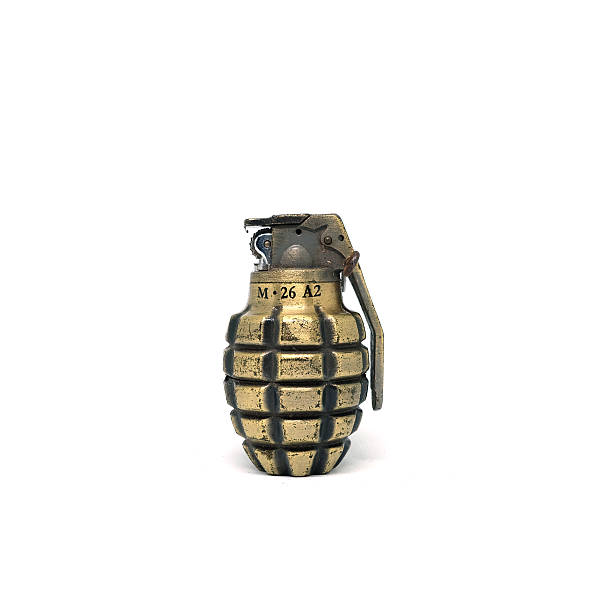e1: (219, 212, 389, 478)
